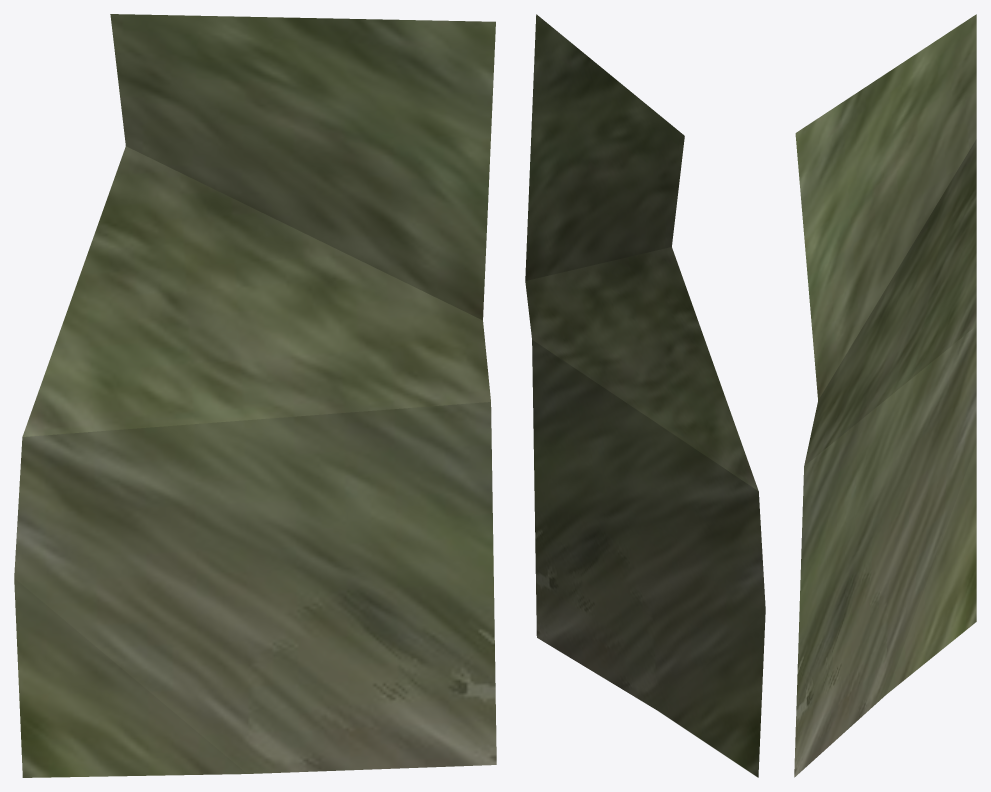
3 views of the same model, side by side, from view 1: azimuth 30°, elevation 25°; view 2: azimuth 150°, elevation 25°; view 3: azimuth 270°, elevation 25° (orthographic). The views are drawn at different scales.
Bounding box in the file's own units: 1.57 × 2.95 × 0.7569.
Materials: 1 (1 with a texture image).
